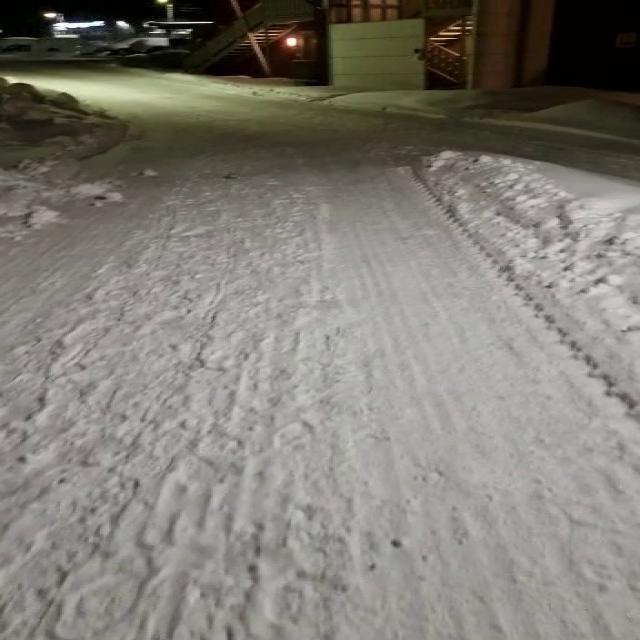path: (2, 64, 638, 640)
